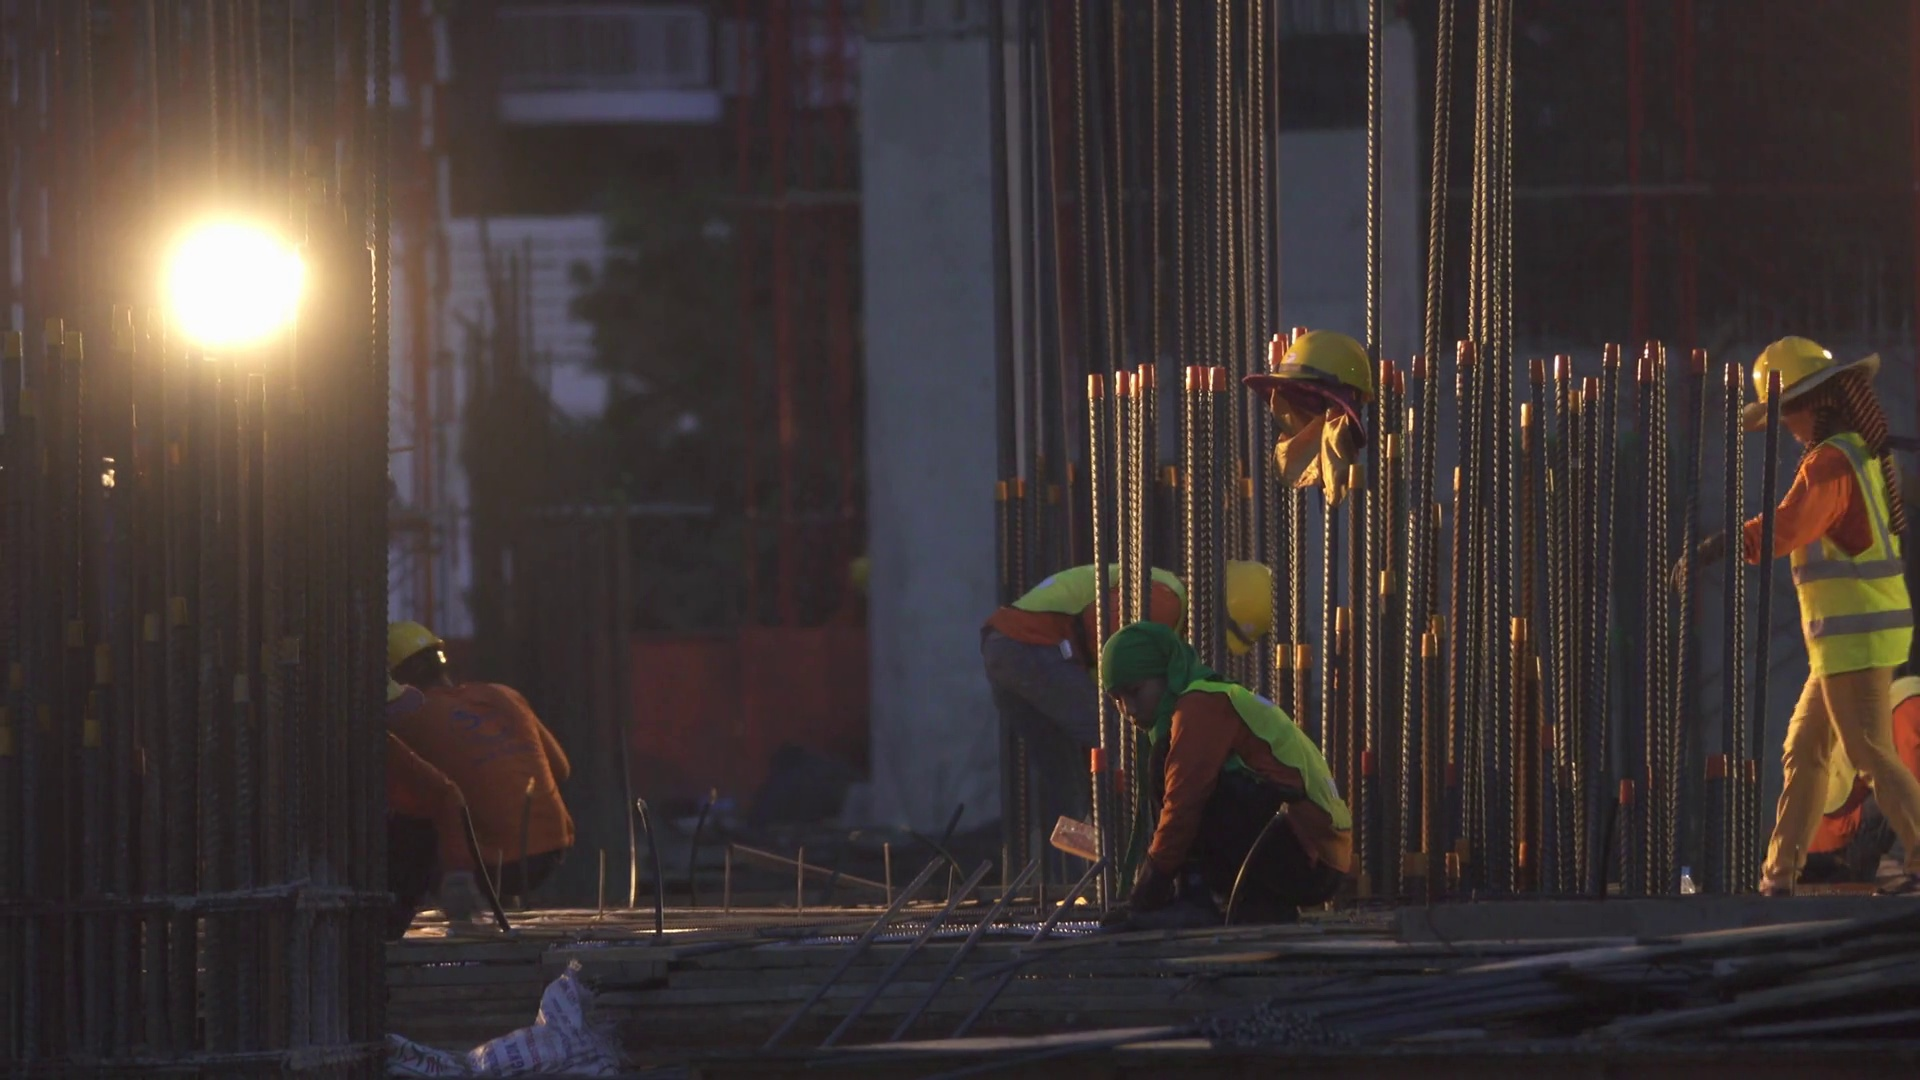none: (1098, 626, 1187, 727)
yellow: (1747, 336, 1844, 444), (378, 616, 450, 694)
